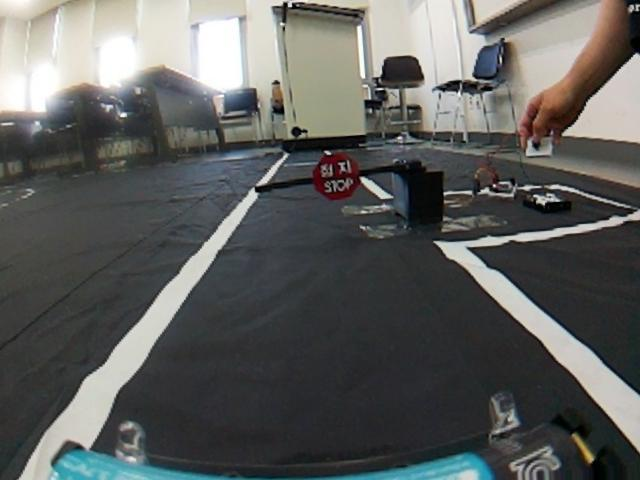sign_stop: (308, 146, 366, 202)
straight: (20, 258, 640, 470)
